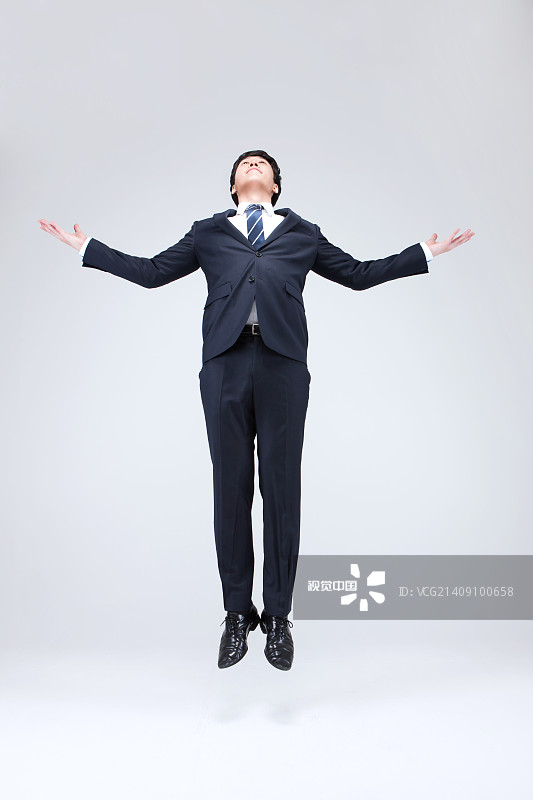no-phone: (24, 202, 104, 263), (411, 214, 486, 265)
